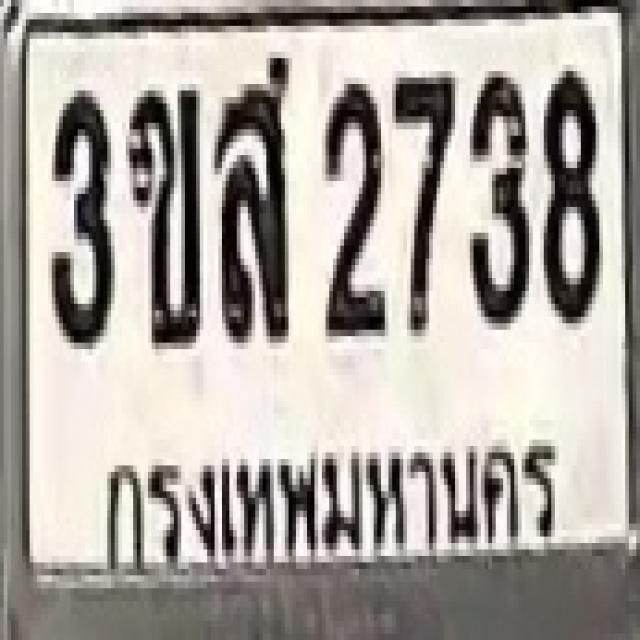-: (211, 52, 288, 336), (126, 84, 200, 343)
2: (320, 78, 383, 330)
3: (48, 84, 111, 343), (466, 65, 525, 323)
7: (388, 71, 452, 330)
8: (540, 65, 596, 316)
